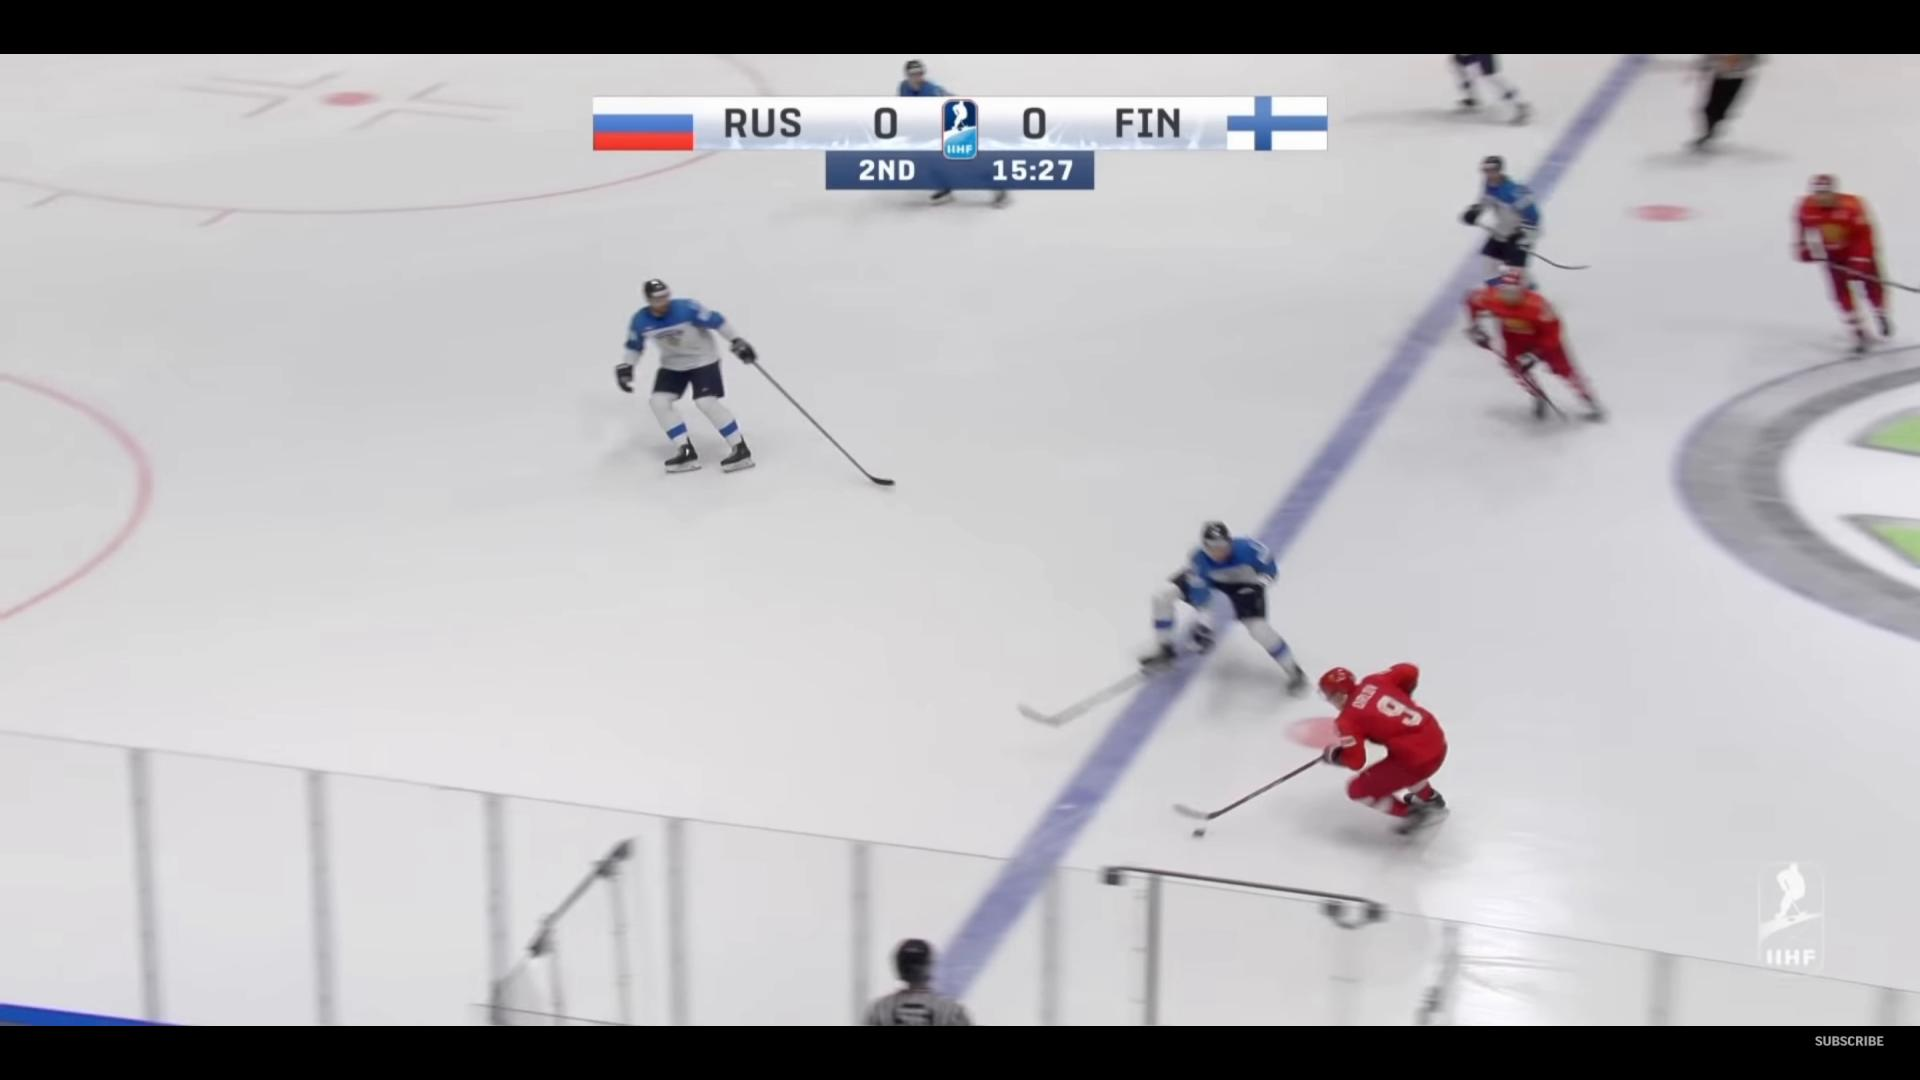puck: (1191, 829, 1204, 836)
